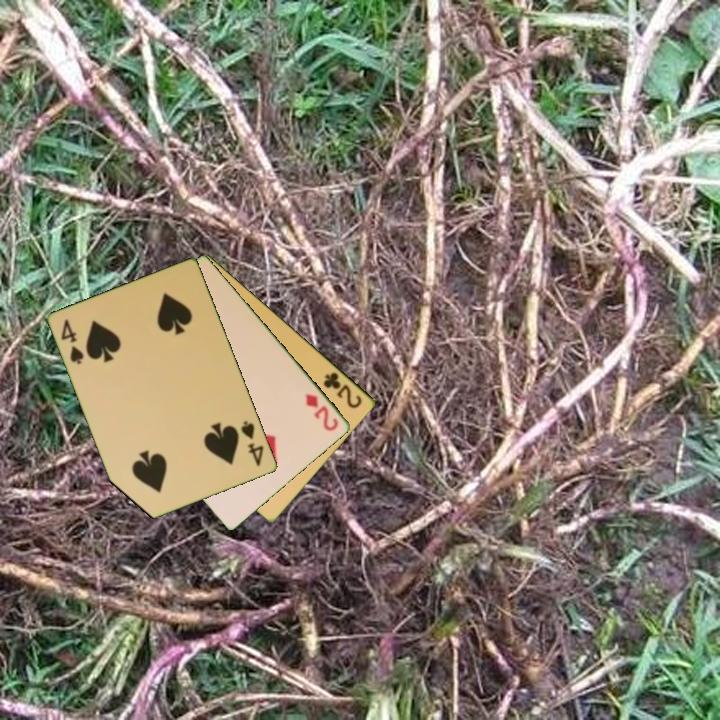2c: (320, 368, 365, 411)
2d: (302, 390, 342, 434)
4s: (238, 417, 267, 470), (58, 316, 87, 367)
